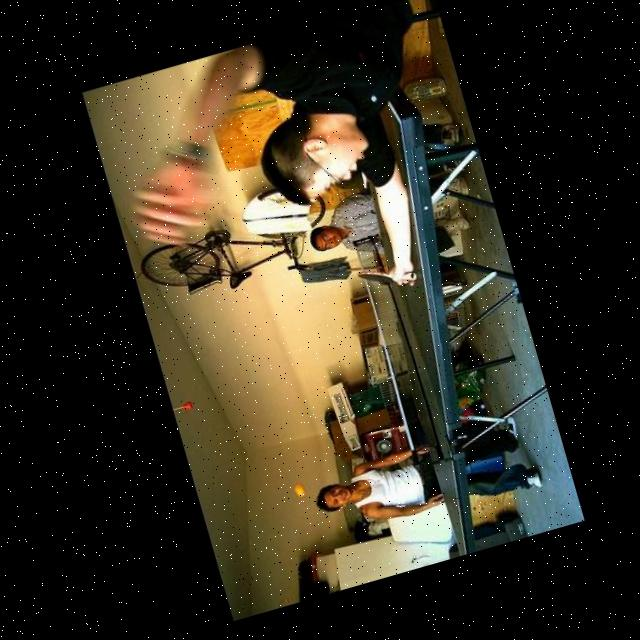ping-pong-ball: (292, 482, 304, 498)
